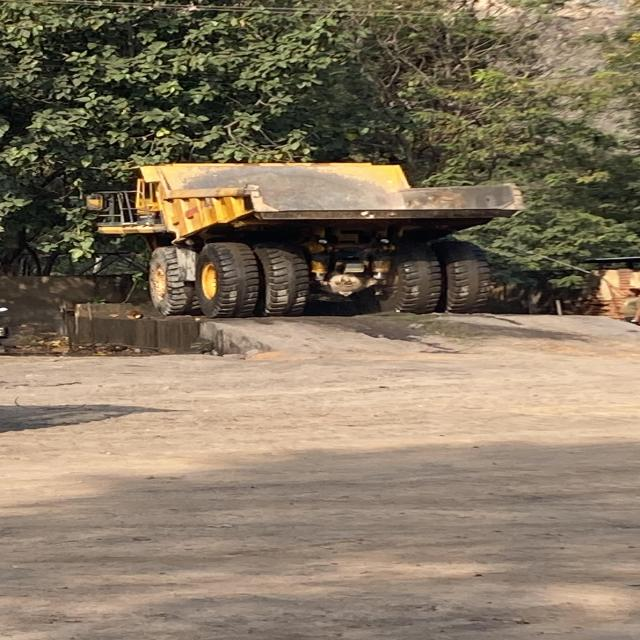dump_truck: (108, 154, 542, 319)
